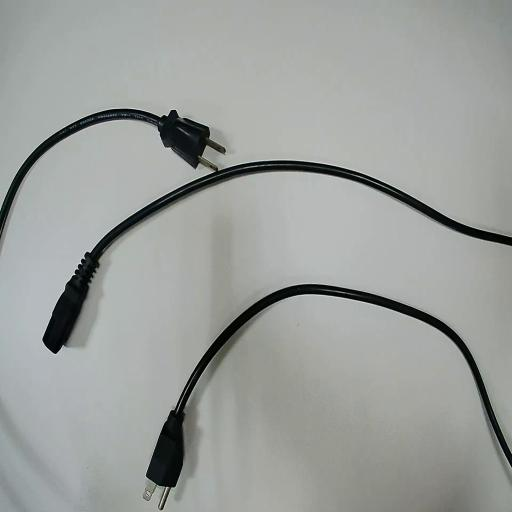wire: (44, 161, 511, 352), (147, 285, 511, 487), (0, 110, 223, 229)
